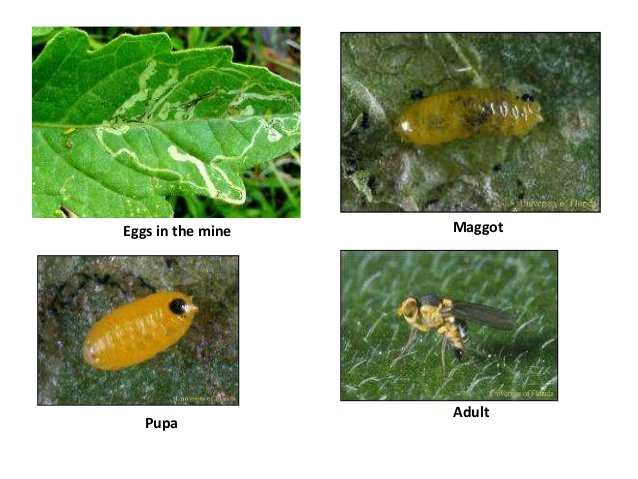Trifoli: (387, 282, 512, 372)
